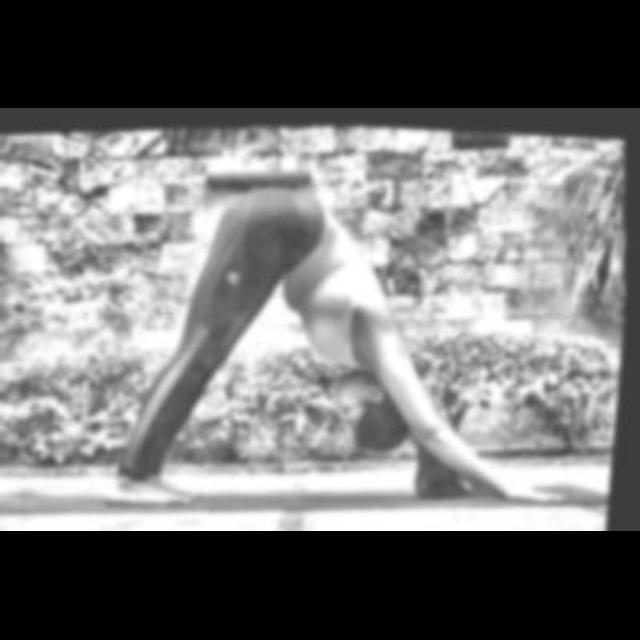Downward-Facing_Dog: (97, 177, 571, 509)
